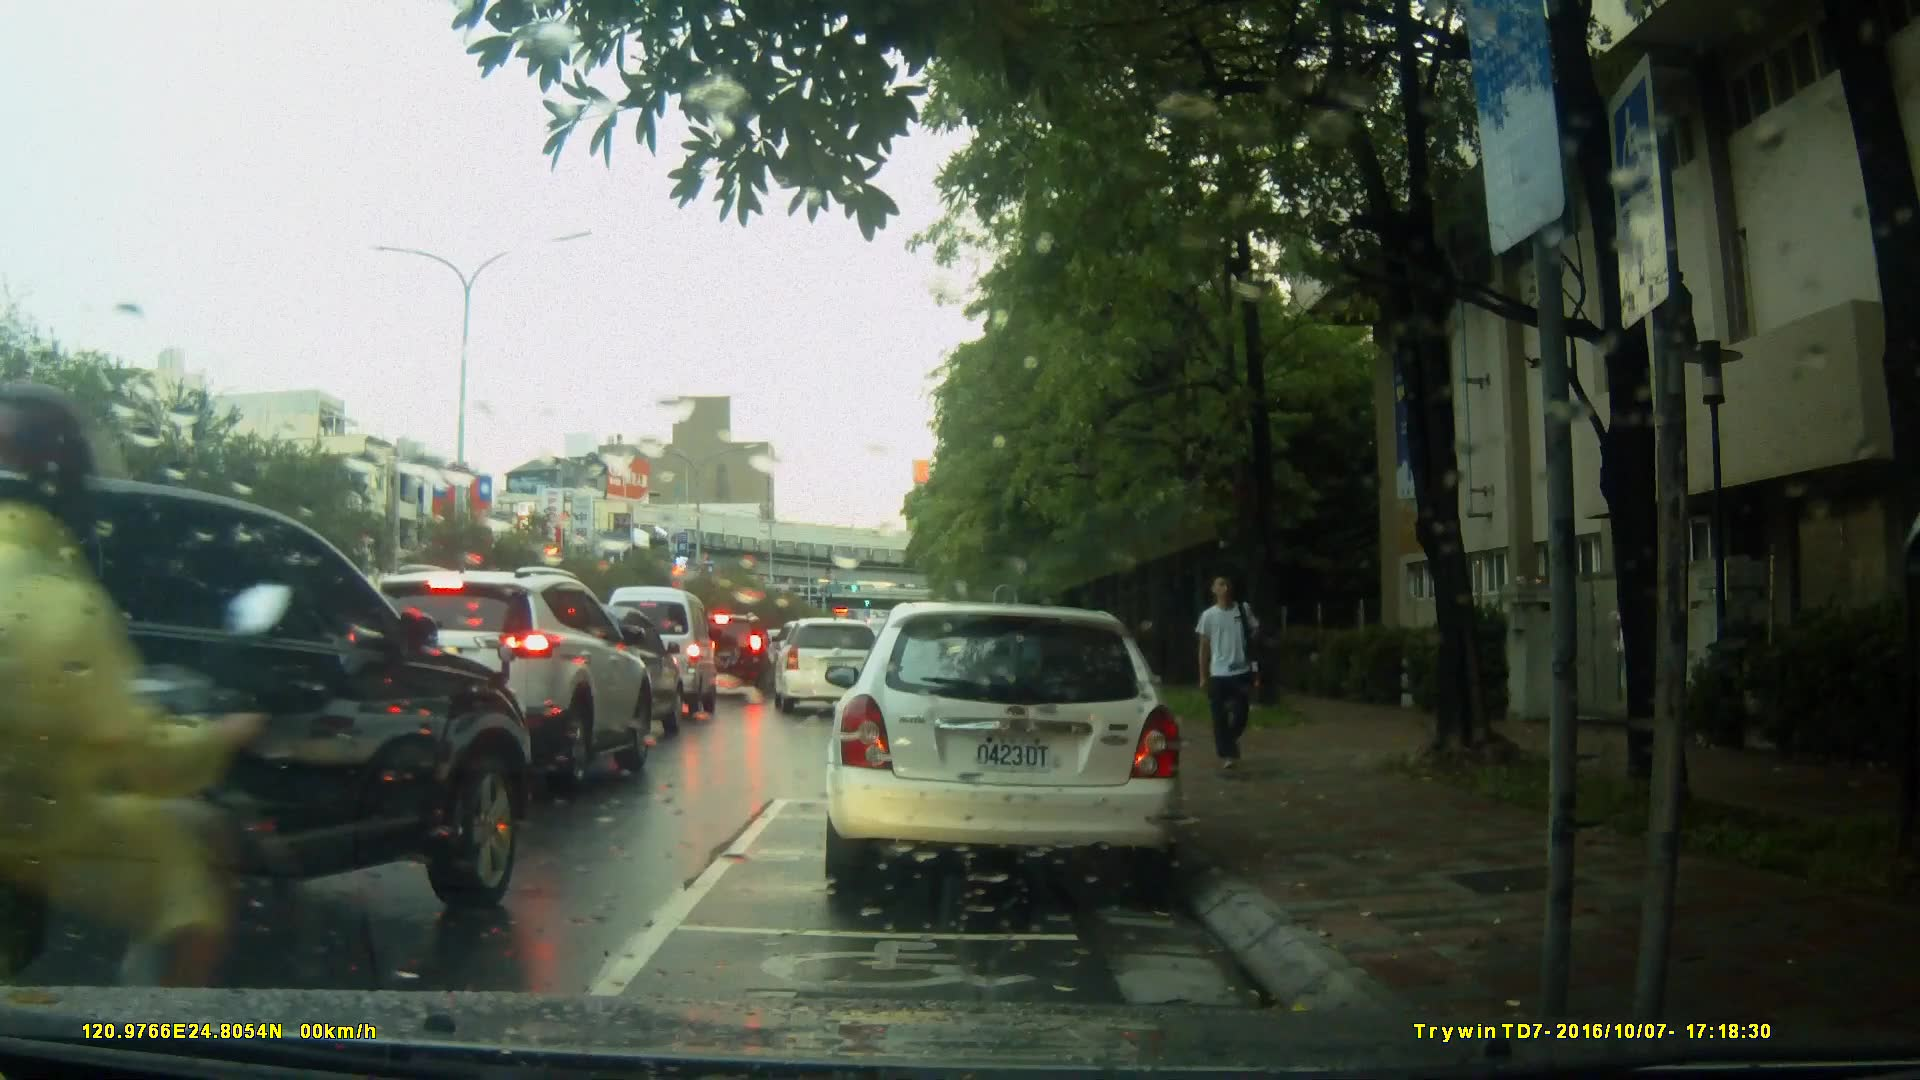pedestrian: (1192, 566, 1271, 787)
rider: (1, 396, 311, 1078)
vehicle: (1, 470, 533, 988), (820, 602, 1188, 898), (341, 563, 659, 791), (532, 603, 692, 737), (598, 585, 722, 722), (772, 617, 889, 715), (677, 611, 775, 703)
